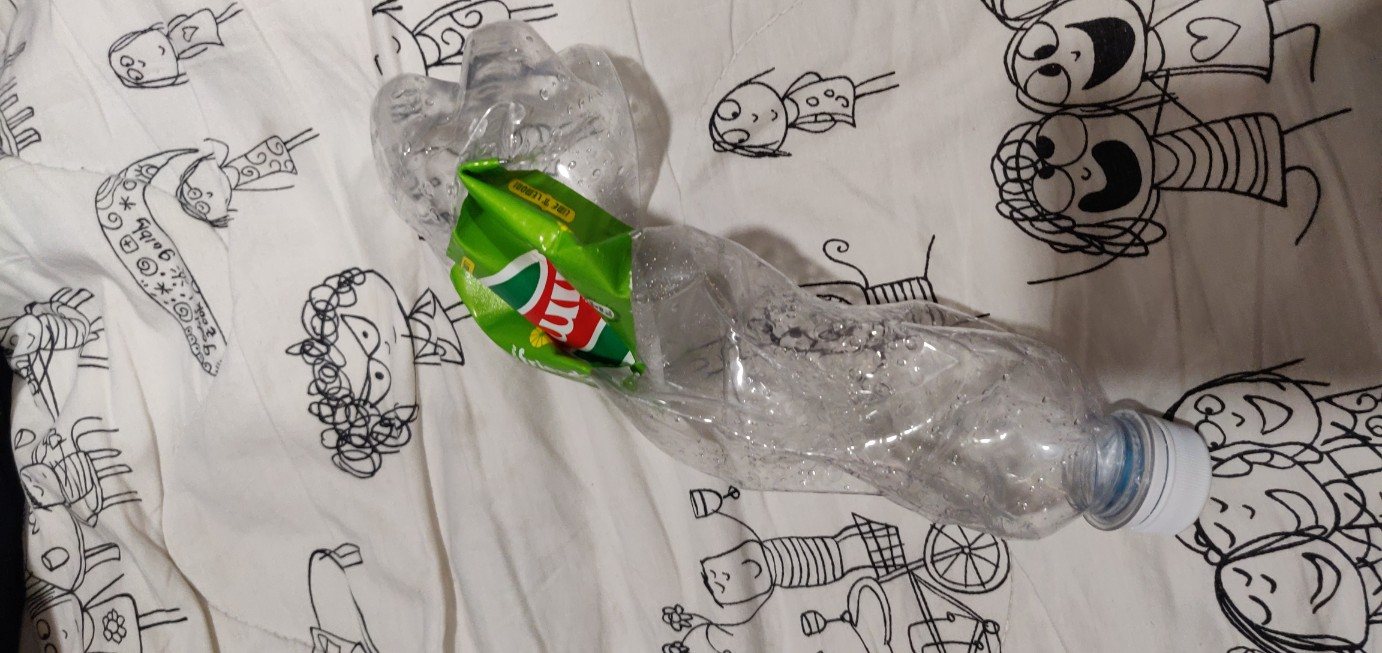Electronics: (347, 16, 1223, 581)
